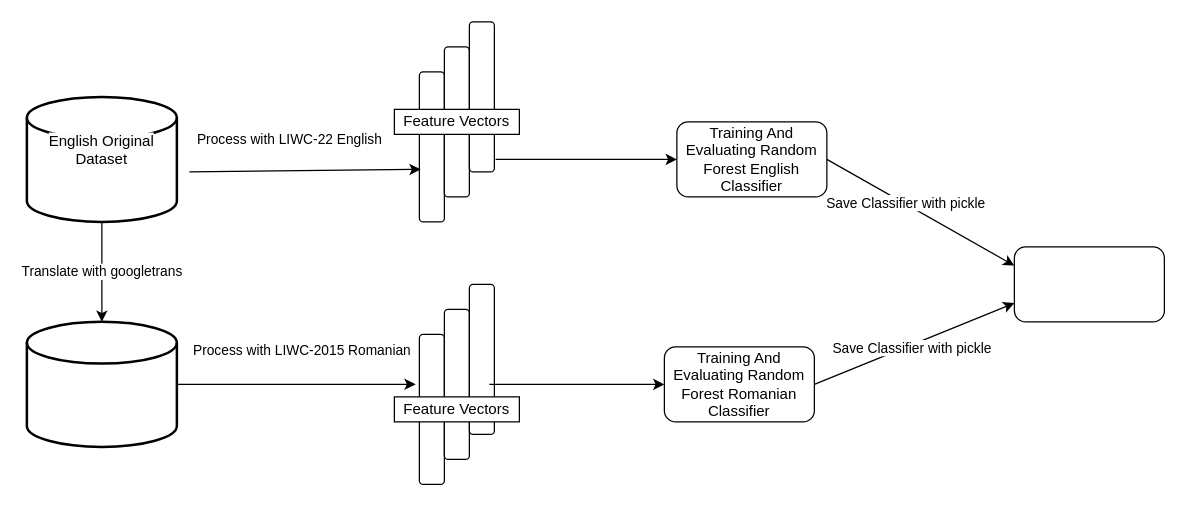
Some shapes in this 1186 by 506 pixel diagram are drawn without their labels. The shapes that lost their labels are listed below. From the top down, each one's centre as x and y in pixels, then its label:
the point at 1088,284: Use Classifier in Depression Detection Tool
the point at 101,384: Romanian Translated Dataset
